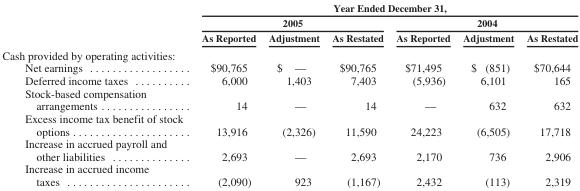table: (1, 1, 577, 187)
table column: (1, 1, 191, 187), (191, 1, 261, 187), (389, 1, 455, 187), (261, 1, 325, 187), (325, 1, 389, 187), (455, 1, 519, 187), (519, 1, 577, 187)
table column header: (1, 1, 577, 46)
table projected row header: (1, 46, 577, 61)
table row: (1, 111, 577, 137), (1, 86, 577, 111), (1, 137, 577, 162), (1, 162, 577, 187), (1, 14, 577, 30), (1, 30, 577, 46), (1, 46, 577, 61), (1, 1, 577, 14), (1, 73, 577, 86), (1, 61, 577, 73)
table spanning cell: (191, 1, 577, 14), (191, 14, 389, 30), (389, 14, 577, 30)
